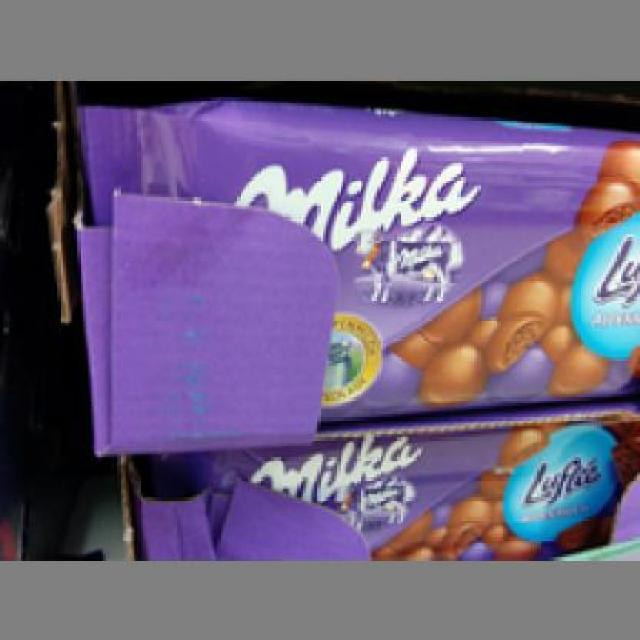Chocolate: (80, 92, 637, 408), (154, 417, 637, 560)
